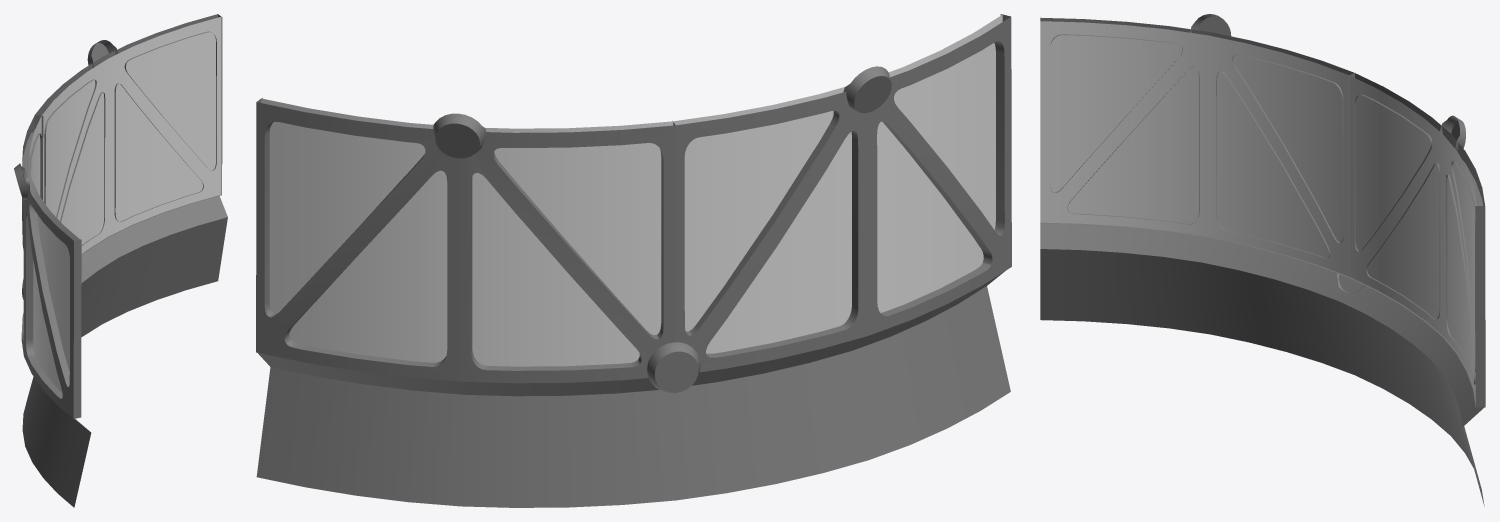
File: q-scifi-mod-wallwindow-corner-round-outer.glb
3 views of the same model, side by side, from view 1: azimuth 30°, elevation 25°; view 2: azimuth 150°, elevation 25°; view 3: azimuth 270°, elevation 25° (orthographic). The views are drawn at different scales.
Visible parts, largest first — view 1: WallWindow_Corner_Round_Outer; view 2: WallWindow_Corner_Round_Outer; view 3: WallWindow_Corner_Round_Outer.
Part boxes in pixels (left/top/right/bottom): WallWindow_Corner_Round_Outer: left=14, top=14, right=227, bottom=507; WallWindow_Corner_Round_Outer: left=256, top=14, right=1011, bottom=507; WallWindow_Corner_Round_Outer: left=1040, top=14, right=1485, bottom=506.
Bounding box in the file's own units: 4.01 × 3.16 × 4.01.
4 materials, 3 textured.
